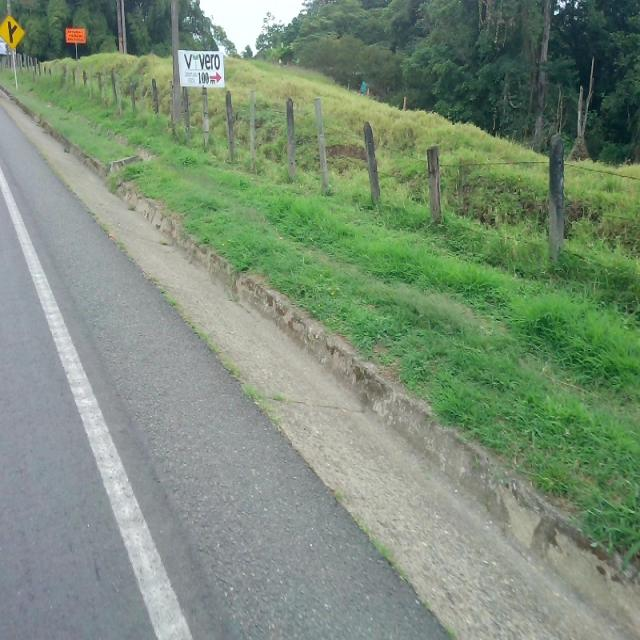DITCH: (1, 81, 638, 638)
